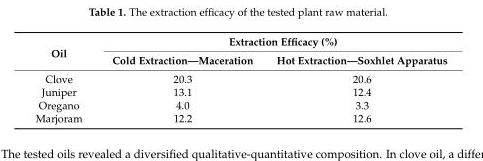table: (34, 34, 446, 124)
table column: (264, 34, 446, 124), (96, 34, 264, 124), (34, 34, 96, 124)
table column header: (34, 34, 446, 69)
table row: (34, 50, 446, 69), (34, 34, 446, 50), (34, 69, 446, 85), (34, 85, 446, 98), (34, 98, 446, 111), (34, 111, 446, 124)
table spanning cell: (96, 34, 446, 50), (34, 34, 96, 69)
